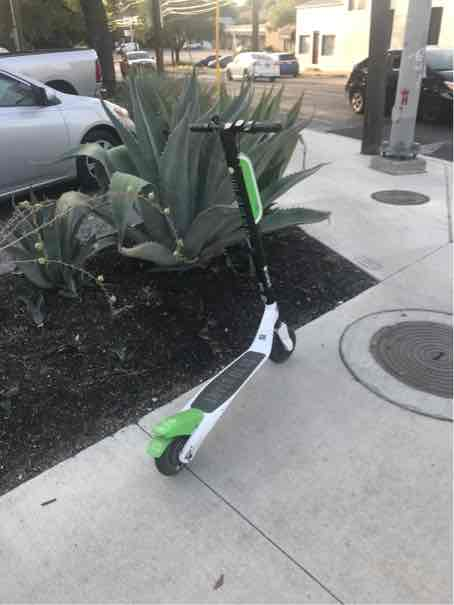scooter: (142, 110, 302, 486)
